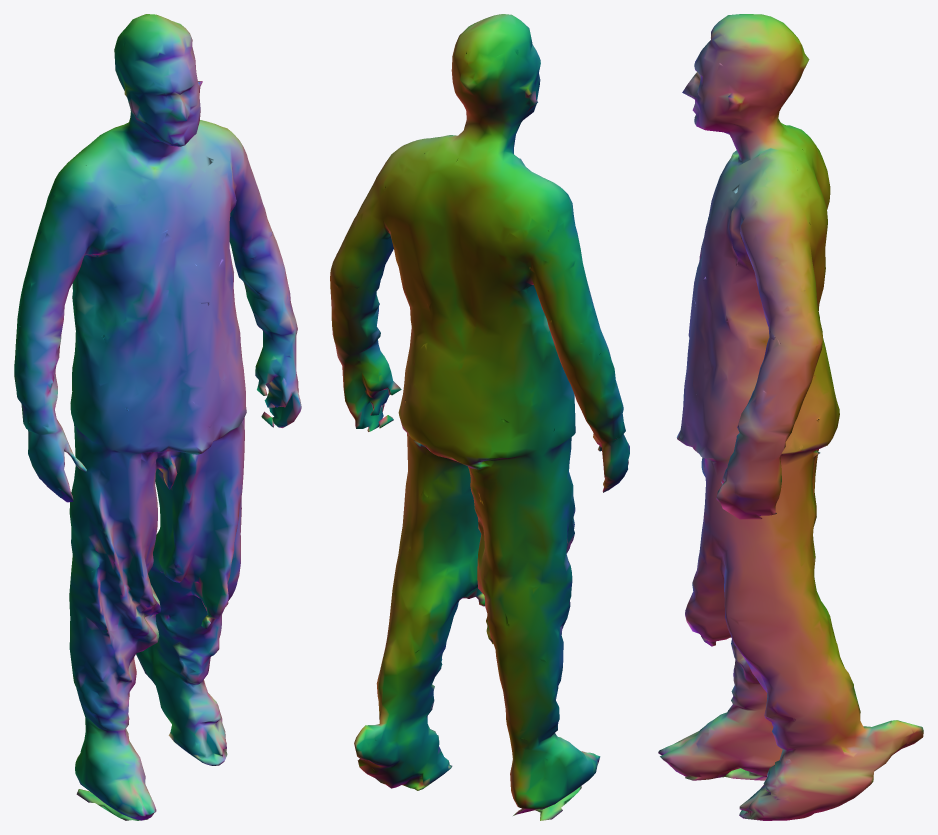
The model's file is suriya_remesh.obj.
The picture shows the model from 3 angles, left to right: view 1: azimuth 30°, elevation 25°; view 2: azimuth 150°, elevation 25°; view 3: azimuth 270°, elevation 25°; orthographic projection.
Bounding box in the file's own units: 0.6849 × 1.84 × 0.5677.
